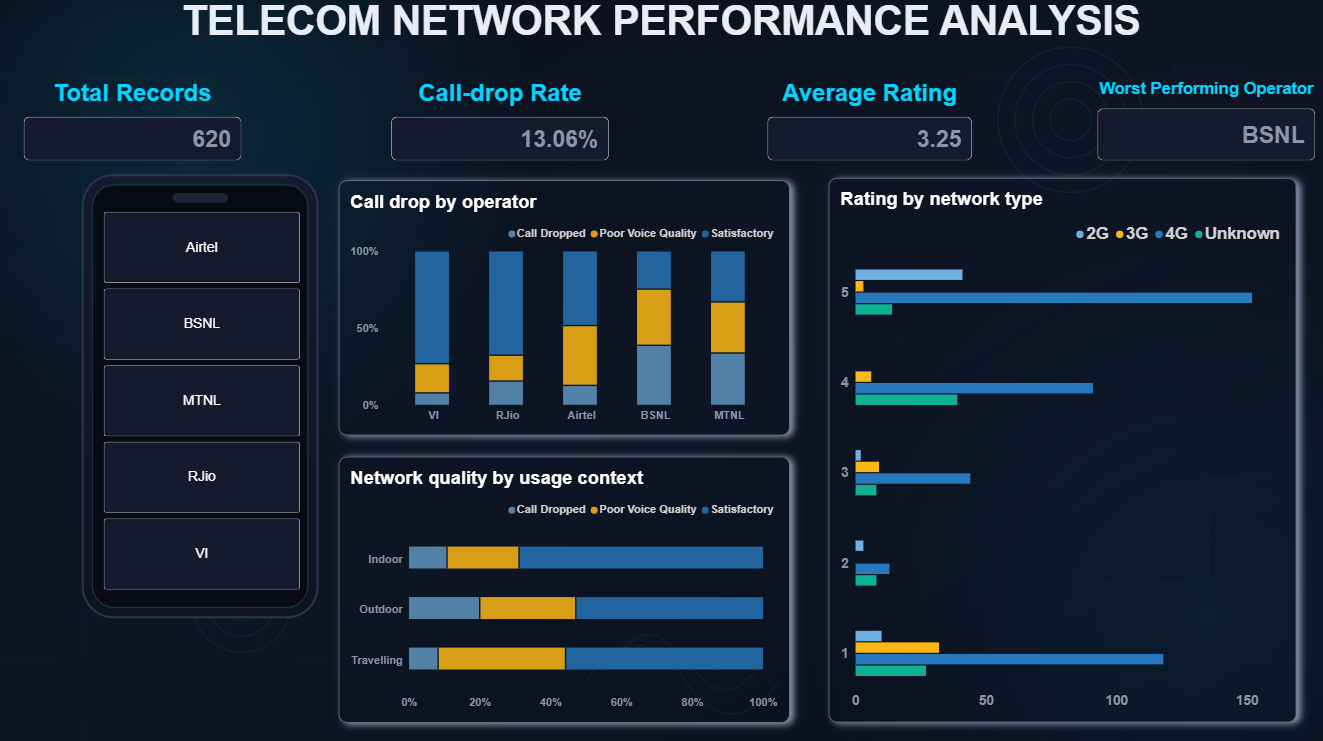

Layout of this report page (visuals, bound fields, positions):
{"tool":"powerbi","page":{"name":"Page 1","canvas":[1920,1080],"ordinal":0},"visuals":[{"type":"textbox","box":[10.3,0,1893.7,98.8],"z":0},{"type":"cardVisual","title":"Total Records","fields":{"Data":["Telecom Network.Total Records"]},"box":[35,117.3,315,118],"z":1000},{"type":"cardVisual","title":"Call-drop Rate","fields":{"Data":["Telecom Network.Call Drop Rate"]},"box":[566,117.3,315,118],"z":2000},{"type":"cardVisual","title":"Average Rating","fields":{"Data":["Telecom Network.Average Rating"]},"box":[1111.5,117.3,296,118],"z":3000},{"type":"cardVisual","title":"Worst Performing Operator","fields":{"Data":["Telecom Network.Worst Operator Name"]},"box":[1589,117.3,315,118],"z":4000},{"type":"hundredPercentStackedColumnChart","title":"Call drop by operator","fields":{"Category":["Telecom Network.operator"],"Y":["Telecom Network.Total Records"],"Series":["Telecom Network.calldrop_category"]},"box":[489.9,263.5,652.5,368.4],"z":5000},{"type":"clusteredBarChart","title":"Rating by network type","fields":{"Category":["Telecom Network.rating"],"Y":["Telecom Network.Total Records"],"Series":["Telecom Network.network_type"]},"box":[1200,261.4,677.2,788.3],"z":5002},{"type":"hundredPercentStackedBarChart","title":"Network quality by usage context","fields":{"Category":["Telecom Network.inout_travelling"],"Y":["Telecom Network.Total Records"],"Series":["Telecom Network.calldrop_category"]},"box":[489.9,664.8,652.5,384.9],"z":5003},{"type":"advancedSlicerVisual","fields":{"Values":["Telecom Network.operator"]},"box":[150.3,308.7,284,549.6],"z":5004},{"type":"textbox","box":[80.3,948.9,354,100.9],"z":5005}]}

Visuals, with their boxes in screenshot pixels (x1, y1, x2, y2), scaled from the page's 1920x1080 canvas onto the 1323x741 screenshot:
textbox: <region>7, 0, 1312, 68</region>
"Total Records" cardVisual: <region>24, 80, 241, 161</region>
"Call-drop Rate" cardVisual: <region>390, 80, 607, 161</region>
"Average Rating" cardVisual: <region>766, 80, 970, 161</region>
"Worst Performing Operator" cardVisual: <region>1095, 80, 1312, 161</region>
"Call drop by operator" hundredPercentStackedColumnChart: <region>338, 181, 787, 434</region>
"Rating by network type" clusteredBarChart: <region>827, 179, 1294, 720</region>
"Network quality by usage context" hundredPercentStackedBarChart: <region>338, 456, 787, 720</region>
advancedSlicerVisual - Telecom Network.operator: <region>104, 212, 299, 589</region>
textbox: <region>55, 651, 299, 720</region>
